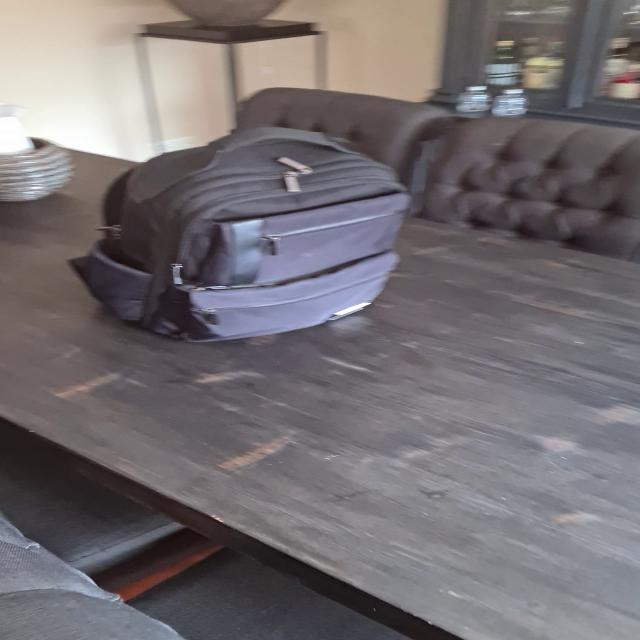backpack: (76, 125, 414, 344)
